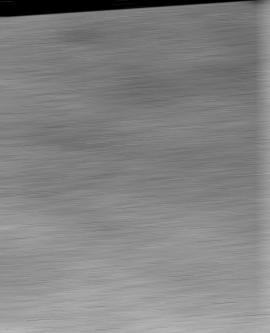Airbag: (0, 0, 270, 333), (264, 20, 270, 333)
